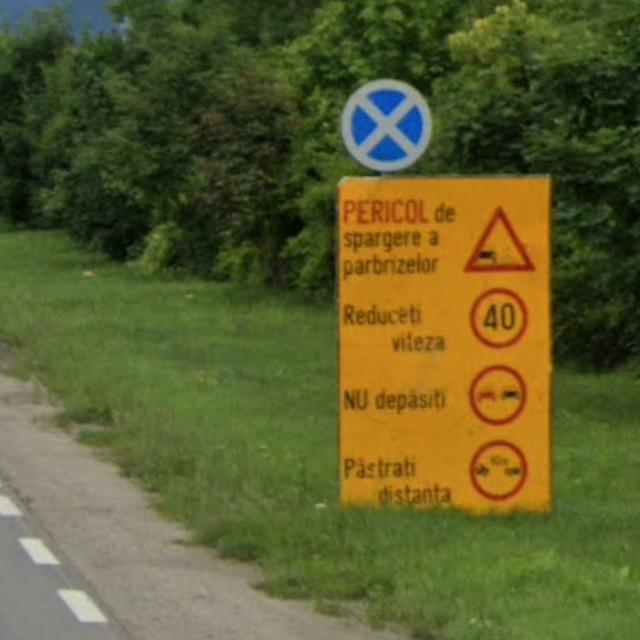forb_overtake: (466, 366, 529, 429)
forb_speed_over_40: (470, 289, 532, 349)
forb_waiting: (341, 80, 435, 178)
